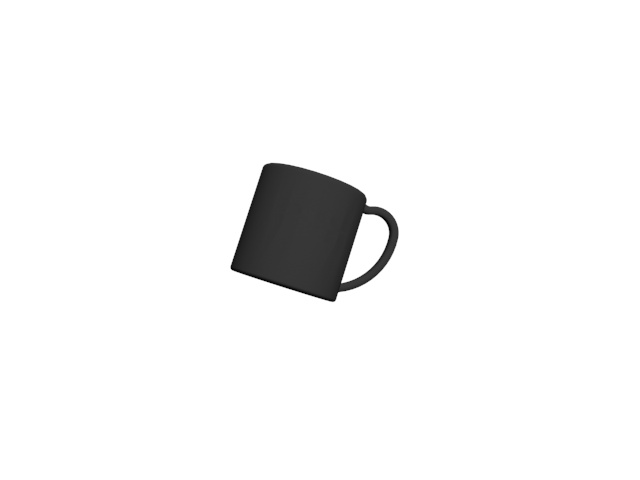mug: (225, 161, 400, 304)
